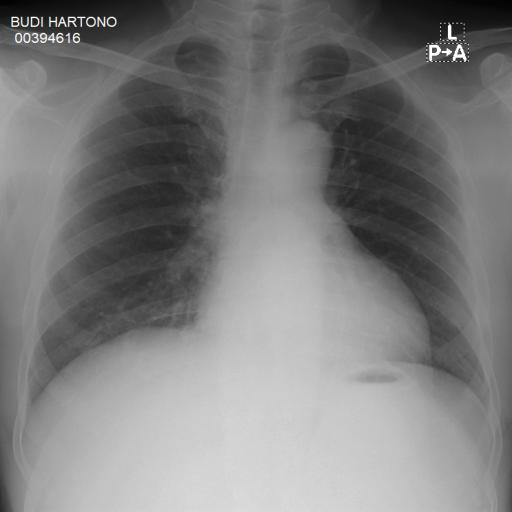kardiomegali: (17, 14, 502, 428)
